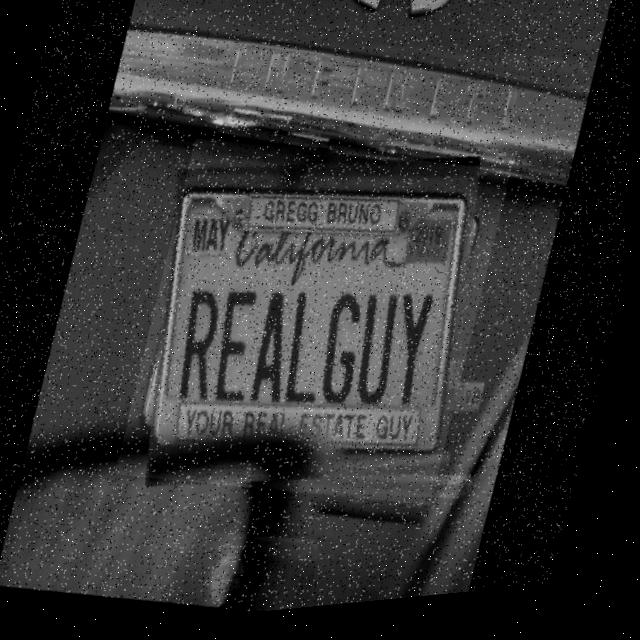LicensePlate: (118, 118, 517, 539)
